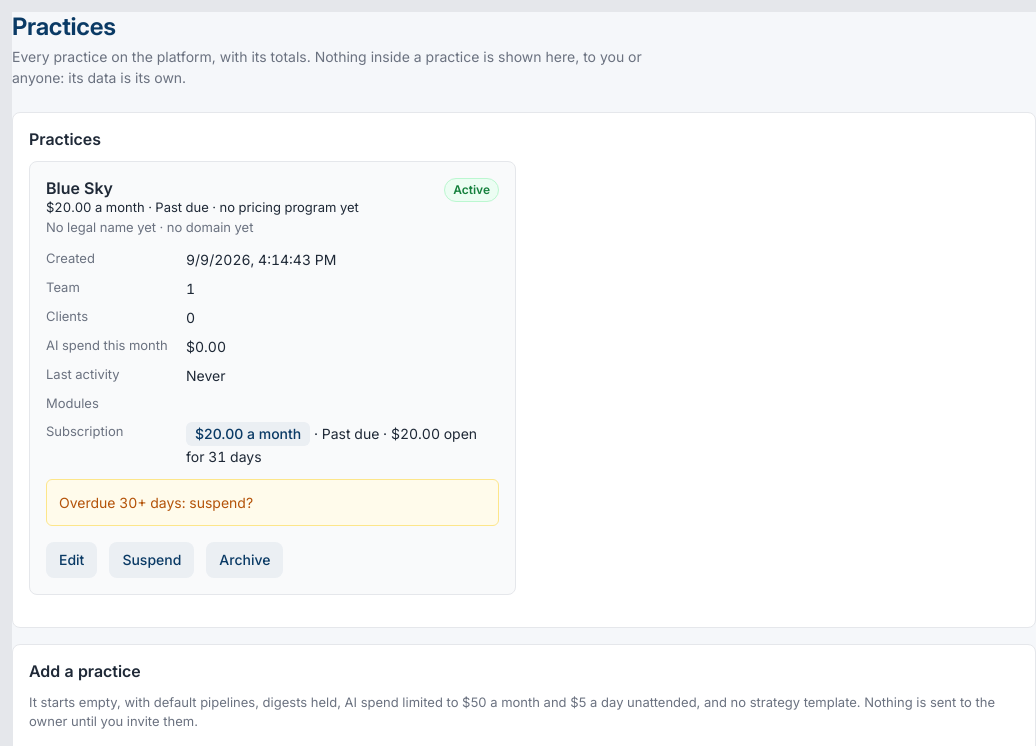
subscriptions on the Practices screen (P4 part 5) › sets a practice's own monthly amount
Click the button with aria-label "Change the amount for Blue Sky": [248, 434] box left=186, top=422, right=310, bottom=446
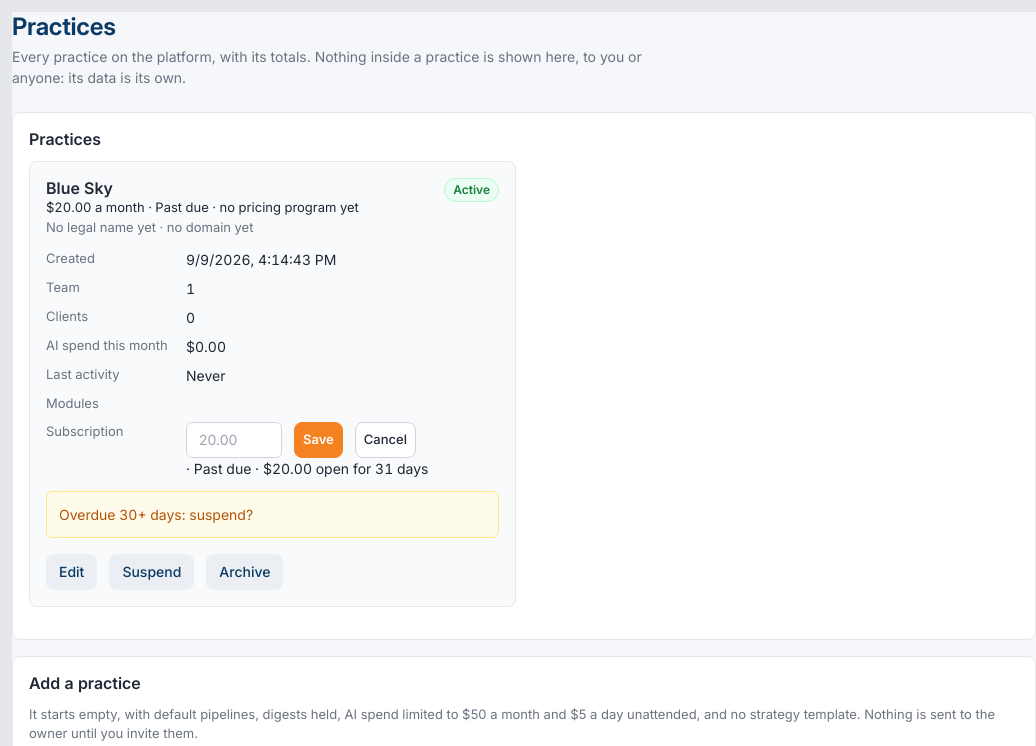
In the field named "Monthly amount for Blue Sky": [234, 440] box left=186, top=422, right=282, bottom=458, type "15"
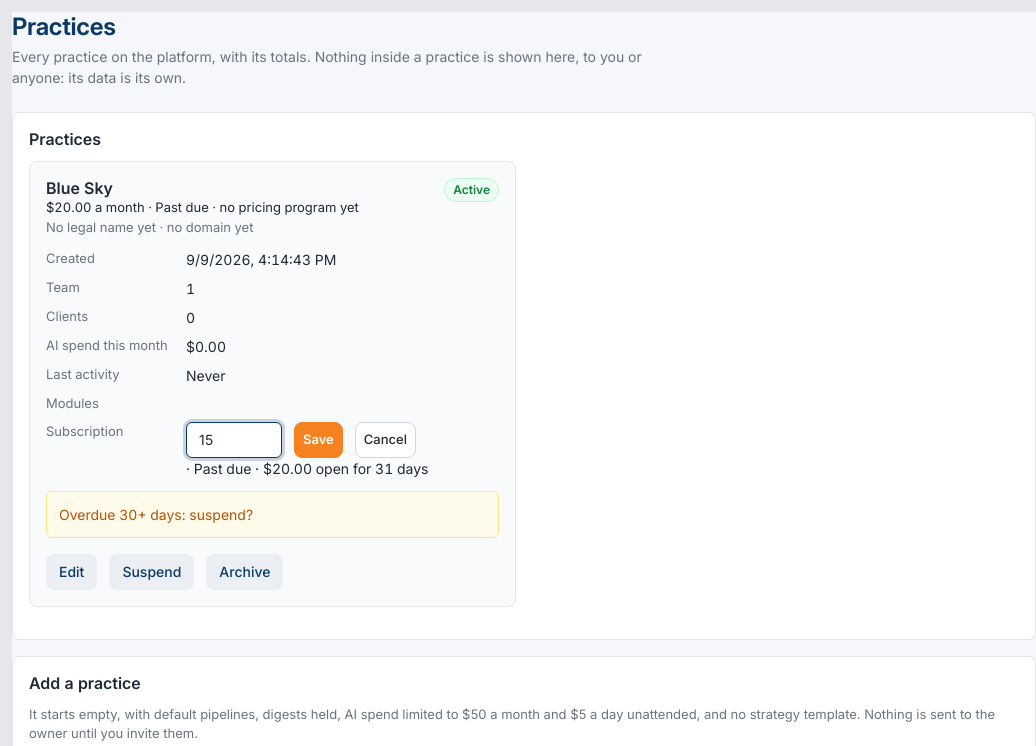
Click the button "Save": [318, 440] box left=294, top=422, right=343, bottom=458
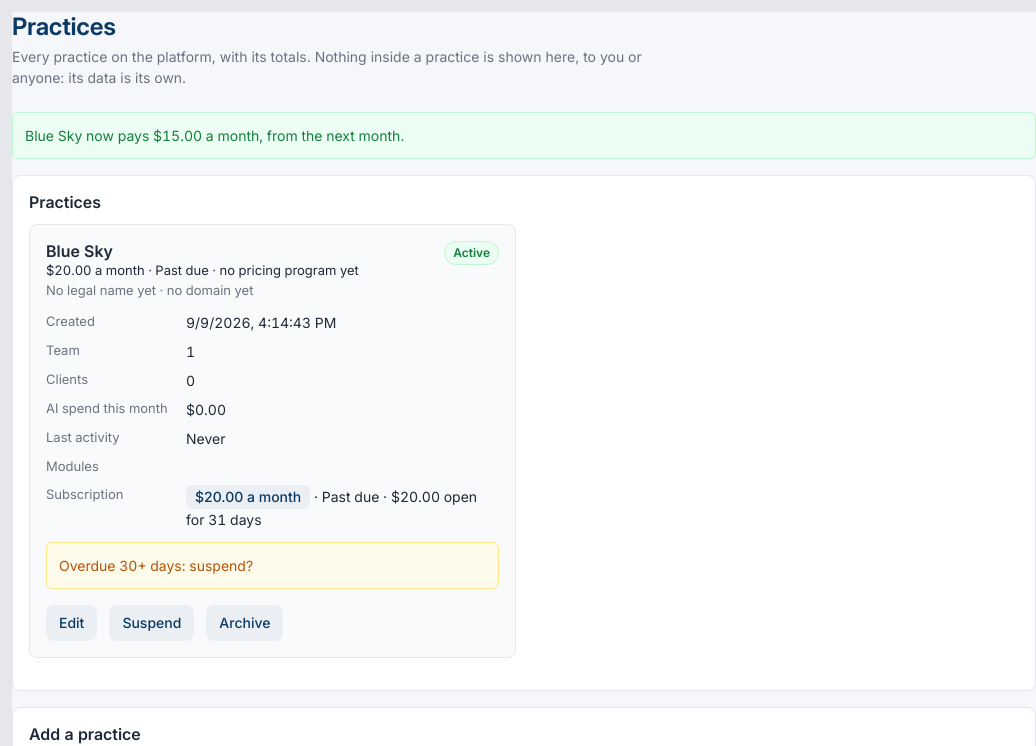
expect the text "Blue Sky now pays $15.00 a month, from the next month." is shown: met, box left=25, top=127, right=404, bottom=144
